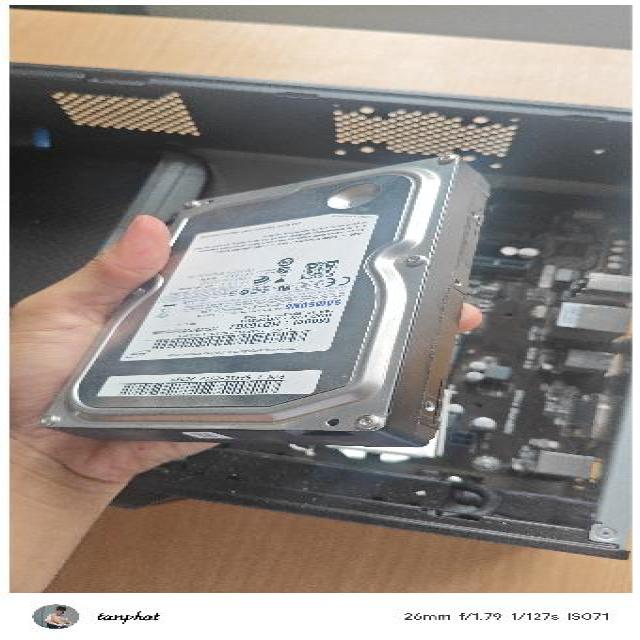DISK: (37, 150, 496, 448)
